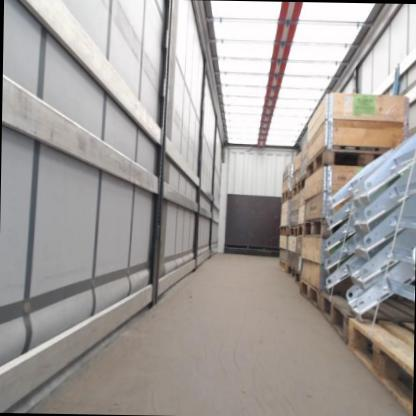pallet: (345, 310, 413, 416), (318, 291, 413, 344), (305, 141, 410, 180), (302, 219, 361, 239), (299, 277, 318, 305), (292, 177, 306, 201), (284, 260, 296, 279), (280, 189, 291, 203), (295, 223, 304, 240), (287, 221, 295, 240), (293, 269, 301, 287), (279, 226, 289, 236), (278, 258, 286, 269)
